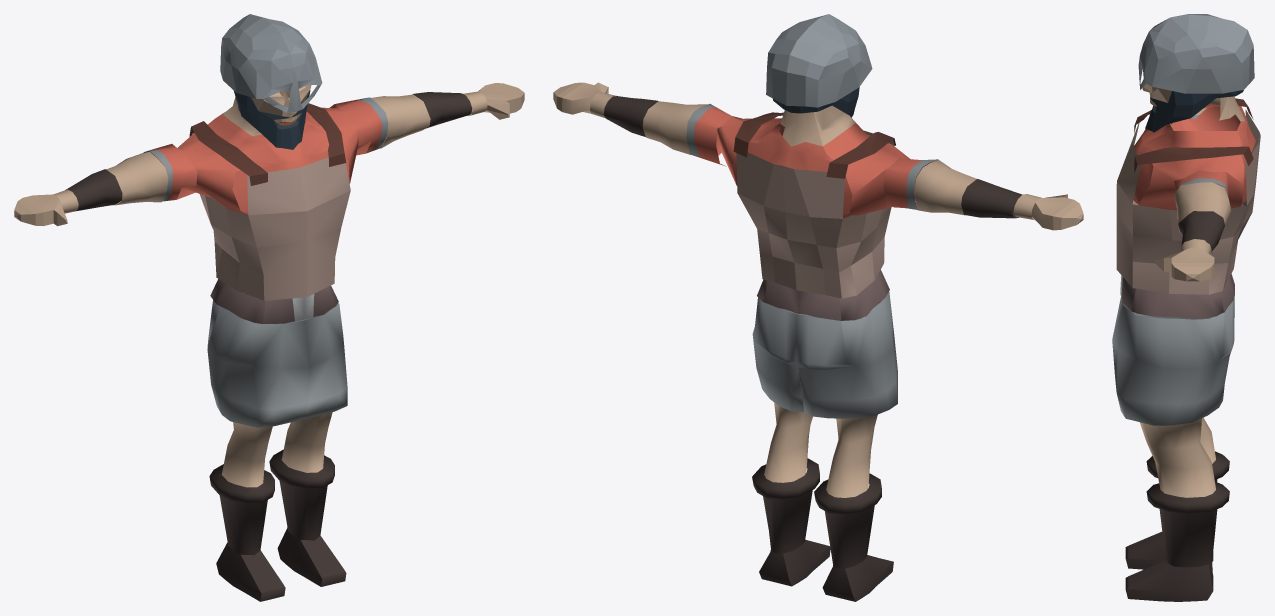
The model's file is warrior2.fbx.
3 views of the same model, side by side, from view 1: azimuth 30°, elevation 25°; view 2: azimuth 150°, elevation 25°; view 3: azimuth 270°, elevation 25° (orthographic). The views are drawn at different scales.
Parts seen in each view (by area): view 1: Plate ahead1, Body, Skirt1, Boots2, Skin2, Helmet2, Leg, CABEZA.001; view 2: Plate ahead1, Body, Skirt1, Boots2, Skin2, Helmet2, Leg, CABEZA.001; view 3: Skirt1, Body, Plate ahead1, Boots2, Helmet2, Leg, Skin2, CABEZA.001.
Boxes of the visible parts, x1,y1,x2,y2 form: Plate ahead1: (189,103,350,300); Body: (65,92,472,323); Skirt1: (207,300,347,427); Boots2: (209,449,346,601); Skin2: (14,83,524,226); Helmet2: (220,14,322,112); Leg: (221,412,332,487); CABEZA.001: (234,70,311,149); Plate ahead1: (733,112,895,298); Body: (603,96,1022,320); Skirt1: (752,291,897,418); Boots2: (752,458,893,601); Skin2: (553,82,1083,230); Helmet2: (766,14,872,107); Leg: (764,395,877,497); CABEZA.001: (772,56,859,117); Skirt1: (1112,297,1234,425); Body: (1120,103,1255,319); Plate ahead1: (1116,98,1260,294); Boots2: (1125,451,1229,601); Helmet2: (1138,14,1254,93); Leg: (1140,417,1215,497); Skin2: (1155,96,1245,281); CABEZA.001: (1142,83,1243,132).
Bounding box in the file's own units: 2952 × 3054 × 728.
